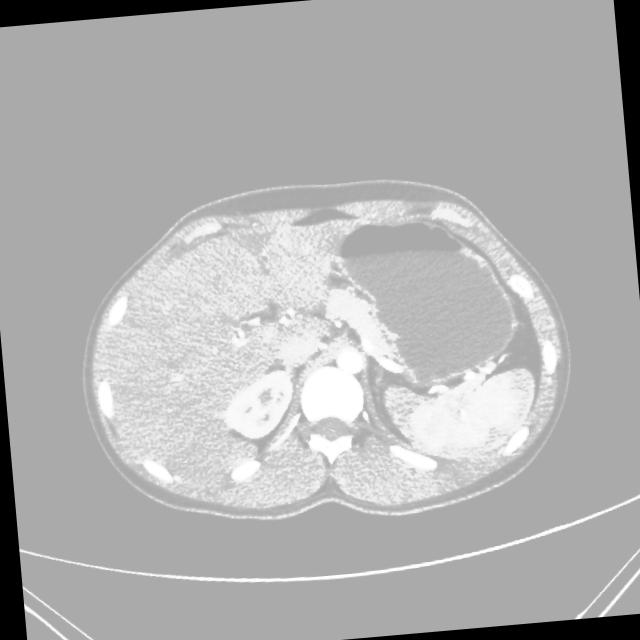NORMAL: (45, 145, 600, 591)
